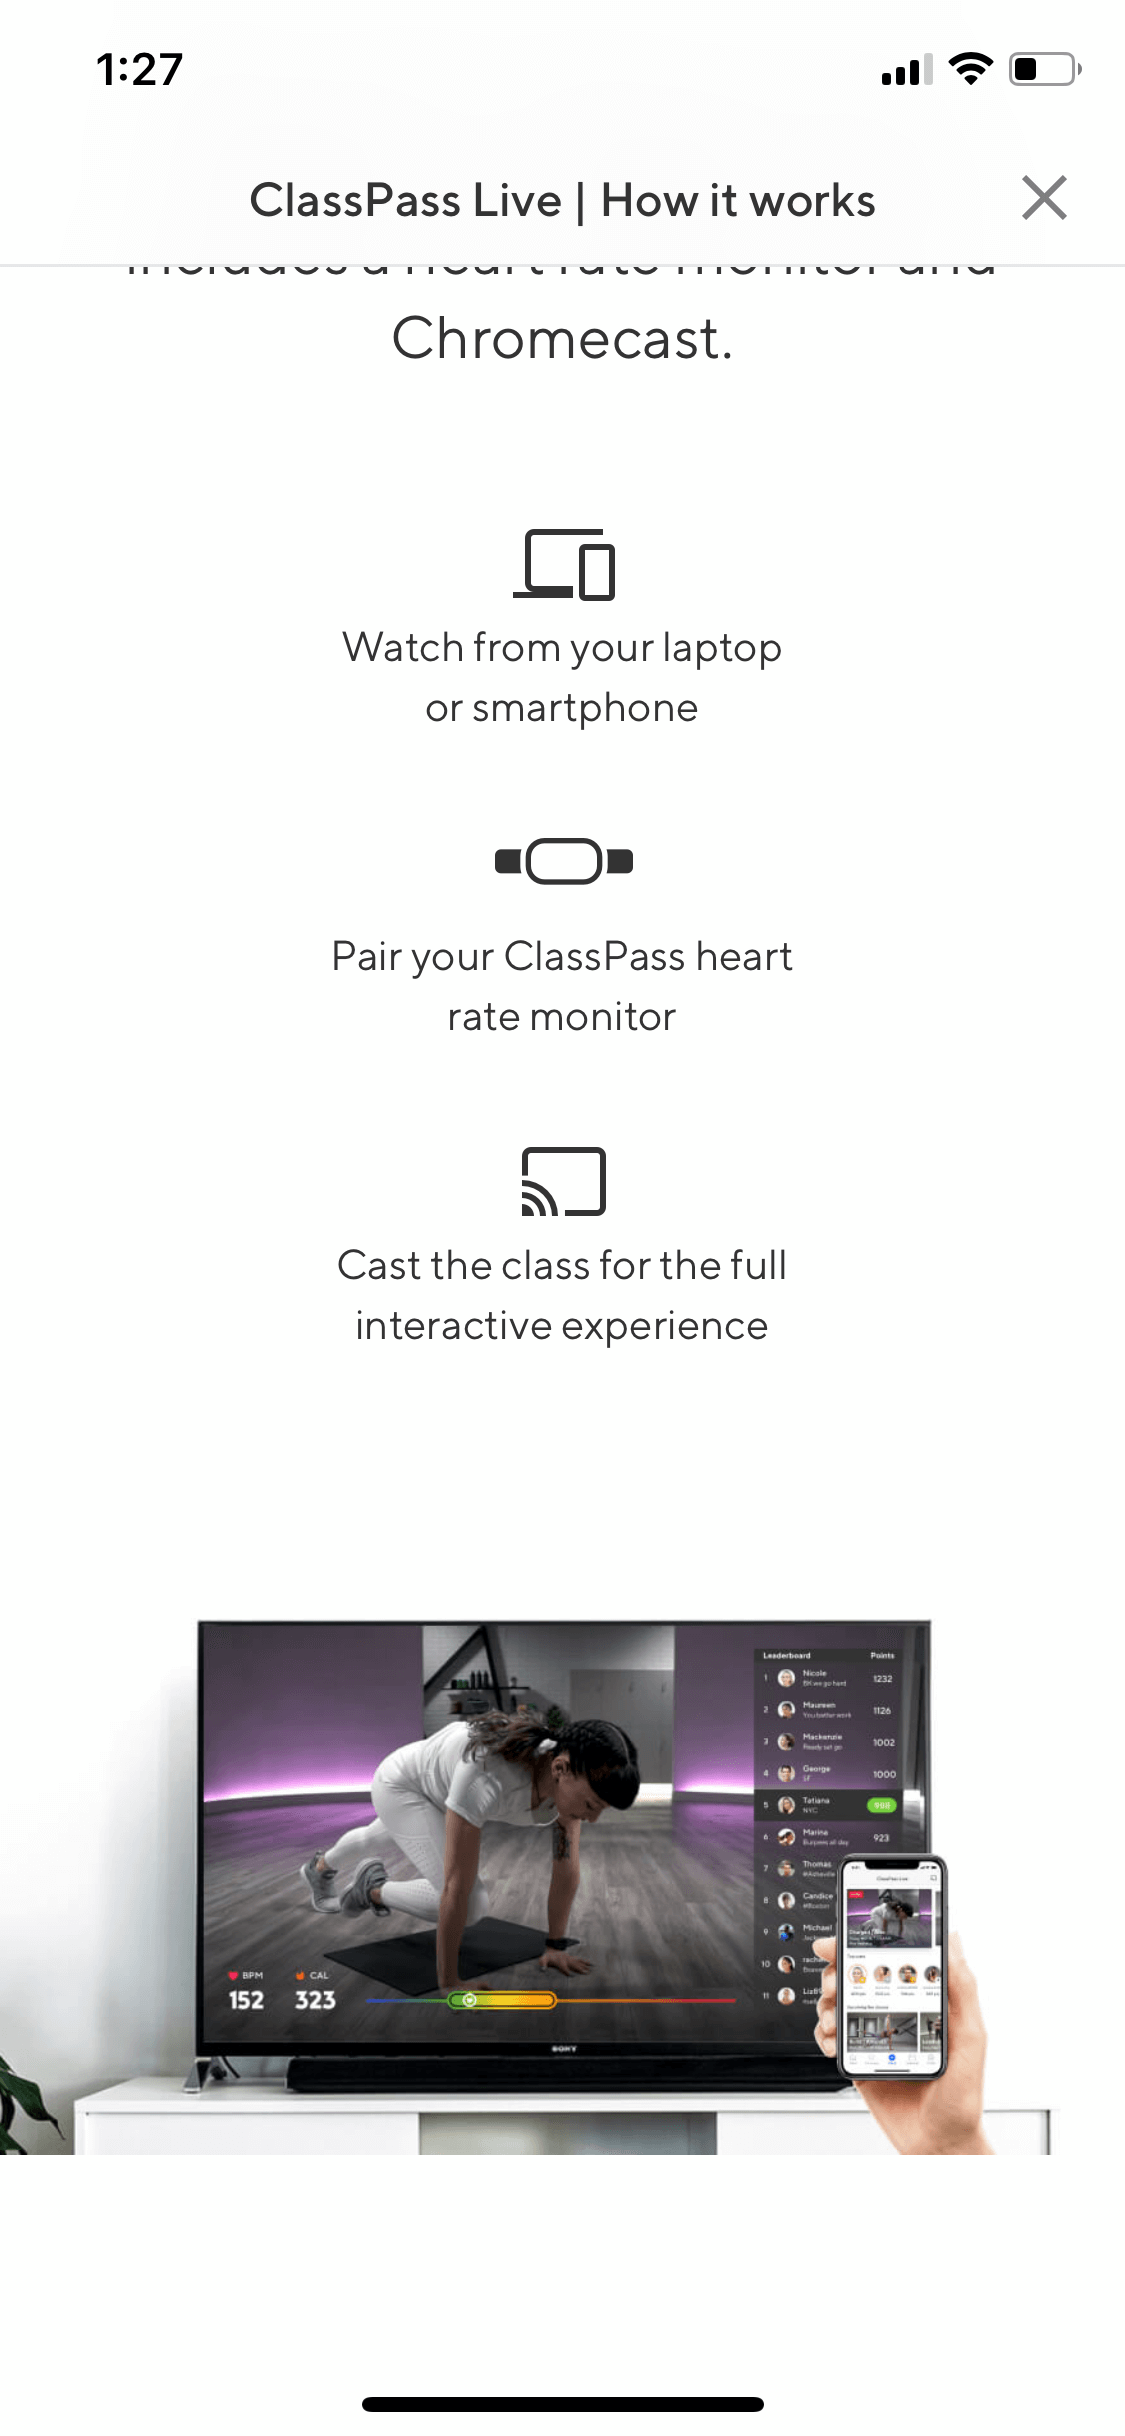Buttons: (993, 141, 1089, 249)
